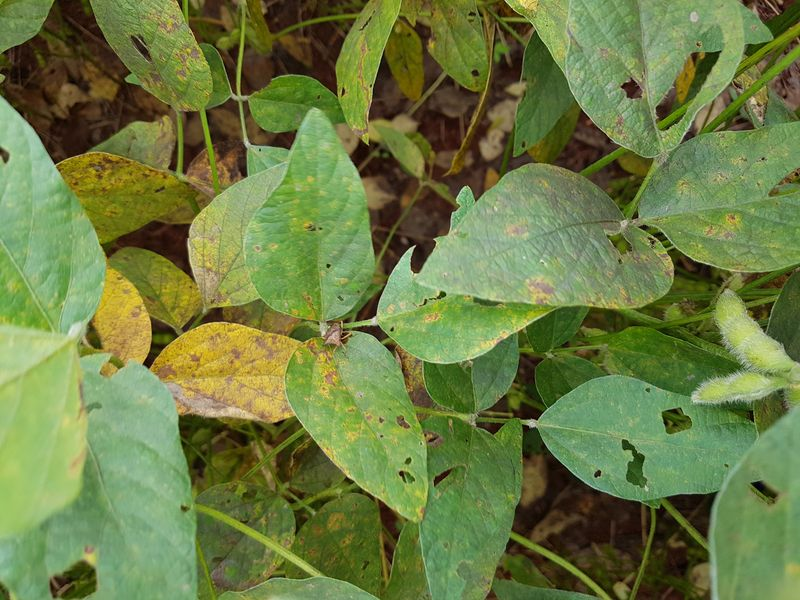Euschistus_heros_adulto: (313, 316, 359, 356)
